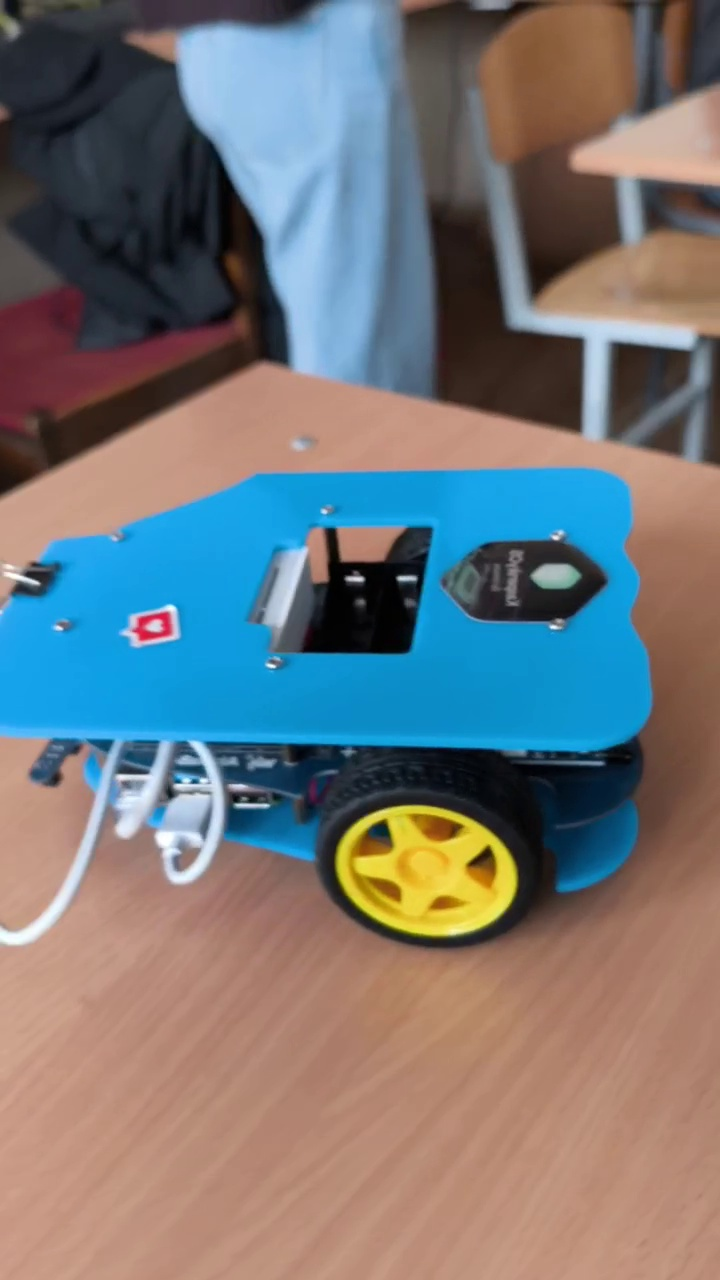robot: (1, 465, 656, 949)
